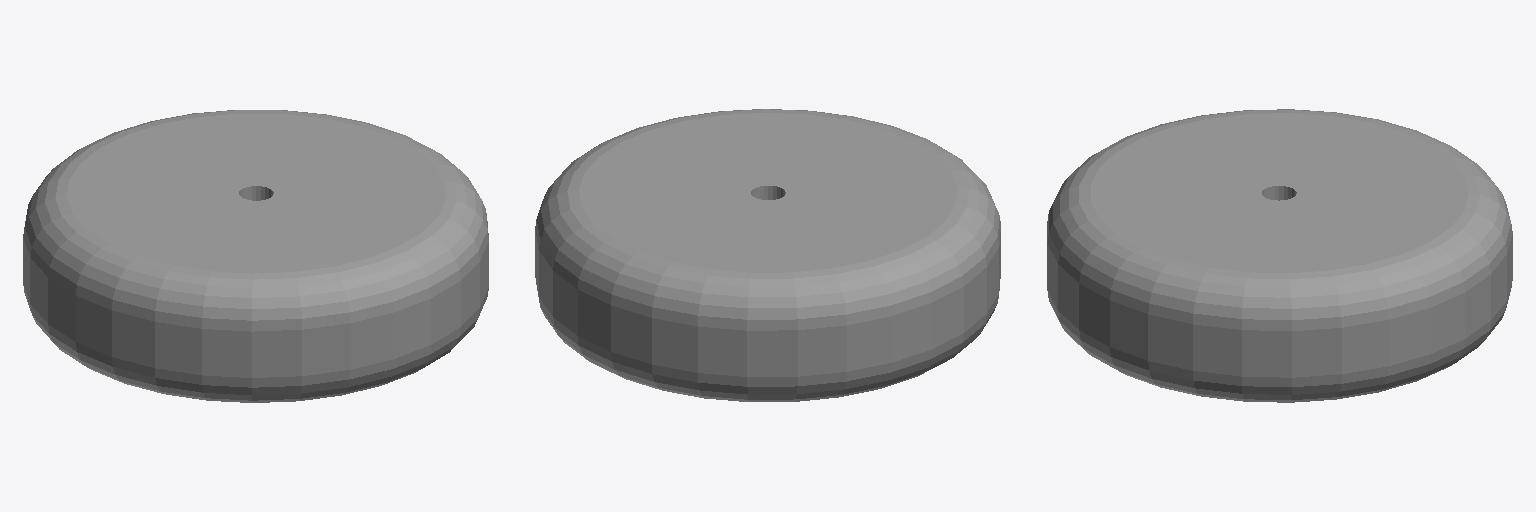
The model's file is caster_wheel_link__in_Caster__in_Caster.obj.
The picture shows the model from 3 angles: view 1: azimuth 30°, elevation 25°; view 2: azimuth 150°, elevation 25°; view 3: azimuth 270°, elevation 25°; orthographic projection.
Size of the model in its own units: 0.1601 by 0.0476 by 0.1599.